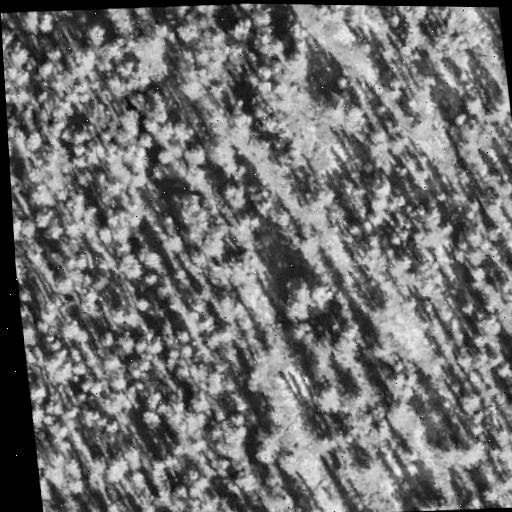tree-top: (39, 444, 95, 499), (313, 79, 359, 127), (276, 274, 320, 323), (245, 418, 289, 467), (206, 413, 251, 460), (291, 275, 341, 314), (442, 433, 491, 471), (198, 130, 241, 171), (225, 211, 266, 251), (384, 395, 425, 434), (170, 187, 209, 226), (450, 115, 488, 154), (309, 381, 351, 415), (210, 287, 249, 323), (276, 44, 314, 78), (350, 449, 388, 482), (302, 340, 337, 375), (27, 180, 61, 216), (338, 172, 371, 208), (65, 43, 97, 80), (411, 488, 460, 512), (217, 179, 252, 212), (362, 171, 394, 205), (2, 27, 31, 64), (101, 453, 133, 486), (135, 241, 167, 271), (171, 15, 202, 45), (81, 19, 113, 48), (5, 38, 35, 68), (115, 106, 145, 136), (182, 139, 213, 168), (57, 315, 88, 343), (457, 387, 487, 414), (397, 442, 428, 468), (228, 13, 256, 41), (386, 244, 415, 271), (139, 406, 162, 438), (113, 331, 141, 356), (22, 123, 46, 151), (30, 209, 58, 232), (288, 497, 324, 512), (28, 375, 47, 402), (22, 319, 40, 342), (19, 288, 36, 312), (511, 185, 512, 208)
